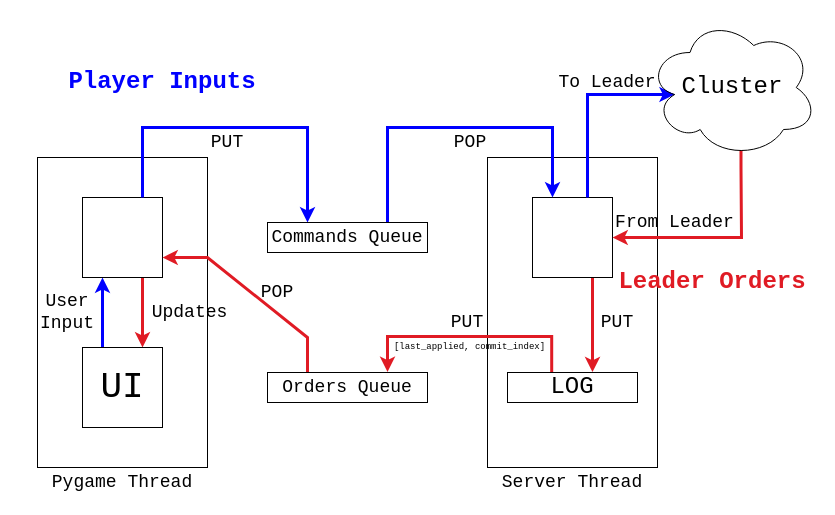
This 835x515 diagram has some shape labels left out. Each missing label, with the centre of its shape:
Pygame: pixel 122 237
Server: pixel 572 237
